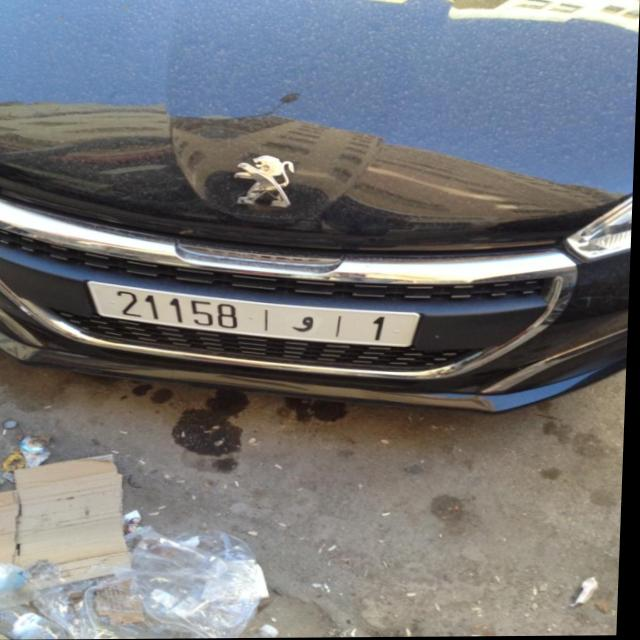License-Plate: (90, 282, 422, 348)
